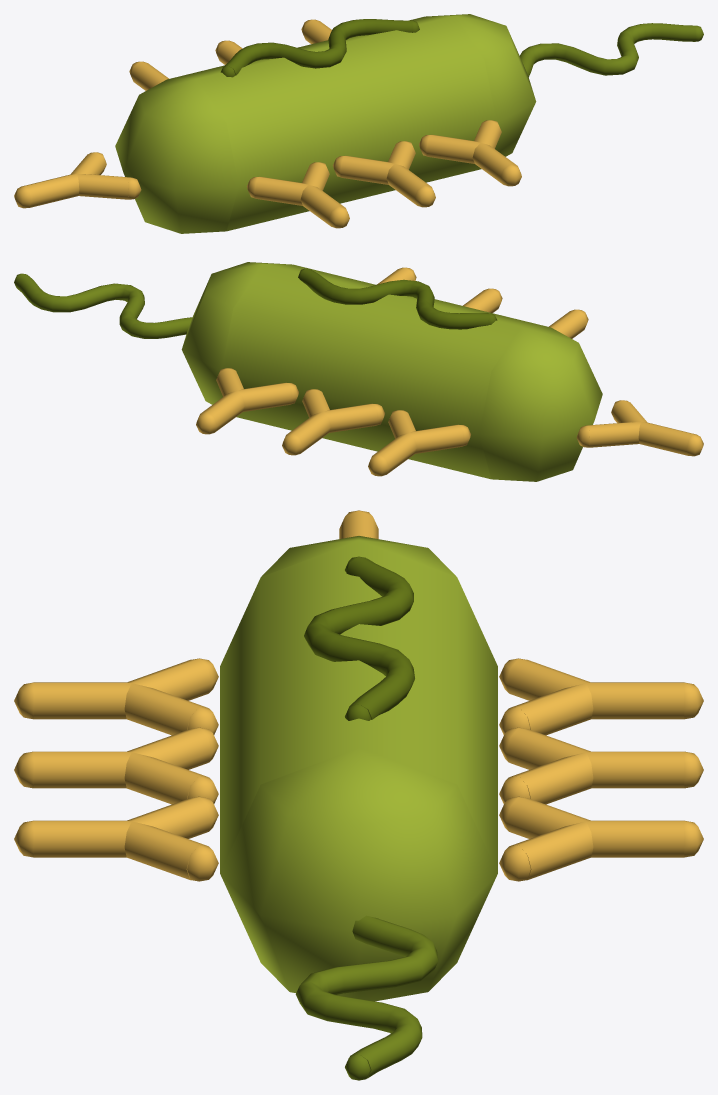
Rendered from bacteria_coated.glb.
The picture shows the model from 3 angles, top to bottom: view 1: azimuth 30°, elevation 25°; view 2: azimuth 150°, elevation 25°; view 3: azimuth 270°, elevation 25°; orthographic projection. The views are drawn at different scales.
Parts seen in each view (by area): view 1: IW_L2_x_bacteria_coated; view 2: IW_L2_x_bacteria_coated; view 3: IW_L2_x_bacteria_coated.
Part boxes in pixels (left/top/right/bottom): IW_L2_x_bacteria_coated: left=14, top=14, right=703, bottom=233; IW_L2_x_bacteria_coated: left=14, top=262, right=703, bottom=481; IW_L2_x_bacteria_coated: left=14, top=510, right=703, bottom=1080.
Size of the model in its own units: 3.2 by 0.7163 by 1.69.
